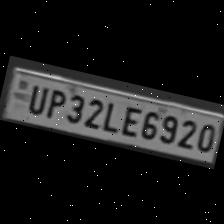0: (192, 118, 218, 153)
2: (80, 92, 106, 129), (174, 113, 200, 150)
3: (62, 88, 87, 124)
6: (136, 104, 162, 140)
9: (156, 108, 182, 144)
E: (117, 100, 143, 136)
L: (99, 96, 122, 132)
P: (41, 83, 69, 121)
U: (22, 78, 48, 114)
